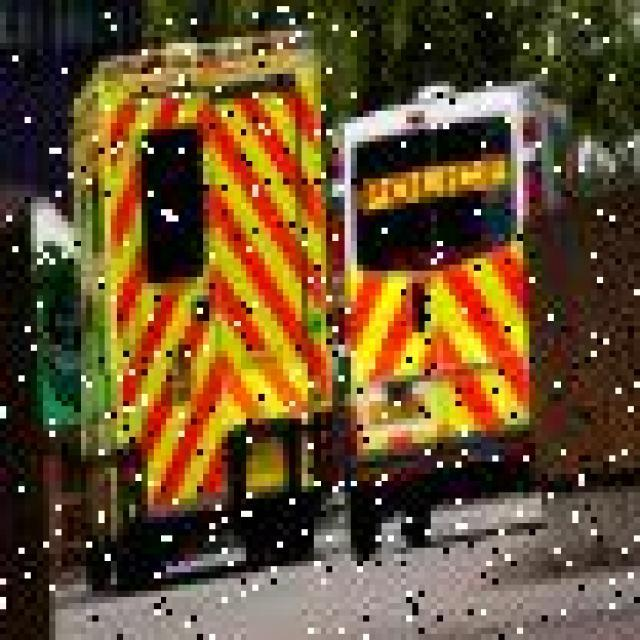emergency-vehicle: (47, 55, 576, 554)
